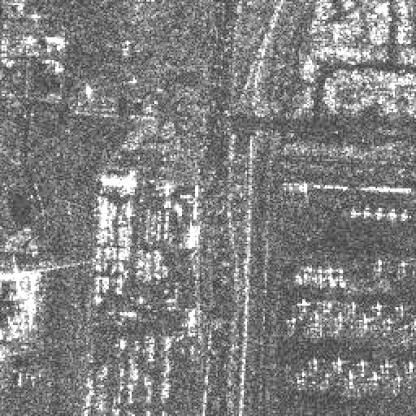airplane: (294, 299, 312, 312), (292, 369, 310, 382), (308, 314, 322, 330), (396, 260, 410, 275), (370, 302, 384, 317), (359, 315, 371, 332), (393, 374, 405, 390), (369, 369, 382, 383), (380, 359, 392, 374), (404, 358, 414, 376), (398, 208, 411, 221), (284, 314, 298, 326), (332, 314, 344, 328), (322, 300, 333, 314), (394, 306, 406, 318), (331, 358, 343, 370), (358, 358, 367, 374), (374, 257, 384, 271), (384, 318, 393, 332), (374, 206, 384, 218), (320, 372, 330, 384), (350, 302, 358, 316), (387, 206, 396, 218), (309, 358, 318, 370), (362, 205, 370, 216), (348, 369, 356, 379), (349, 210, 359, 216)
